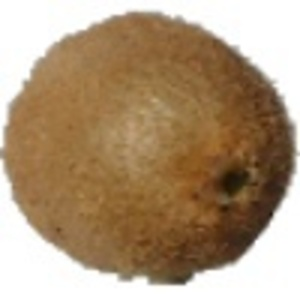kiwi: (1, 9, 300, 288)
